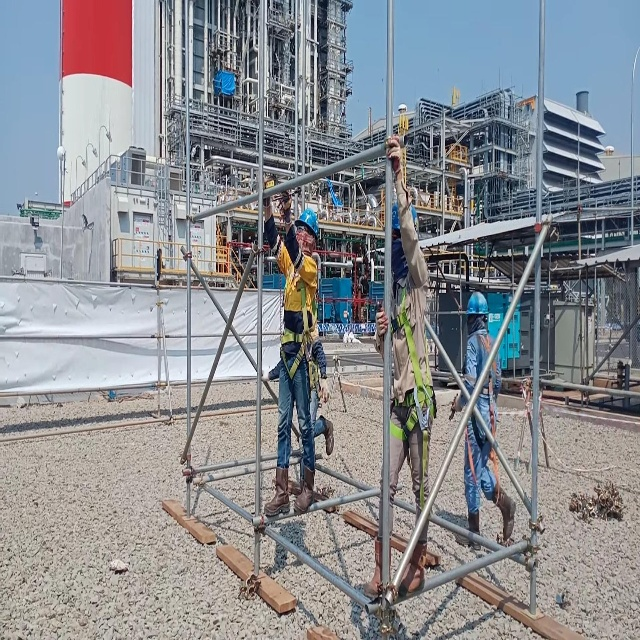Arnes_seguridad: (390, 272, 436, 516), (460, 325, 501, 513), (281, 268, 316, 398)
